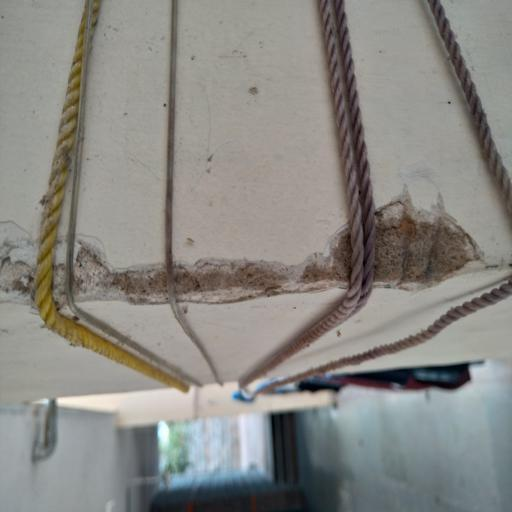spalling: (0, 188, 499, 311)
